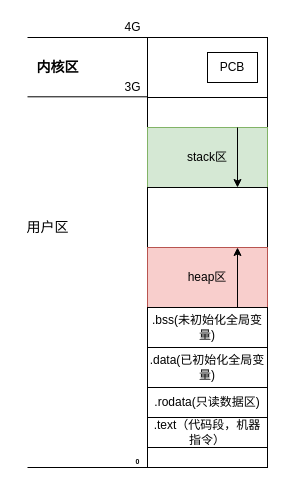
Image size: 285x486. Some labels were removed from this diagram. The shapes that lost their labels are listed below. From the top down, each one's centre as x and y in pixels, then its label:
At (x=207, y=112): "环境变量/命令行参数".
At (x=207, y=217): "共享库".
At (x=207, y=457): "受保护区".
